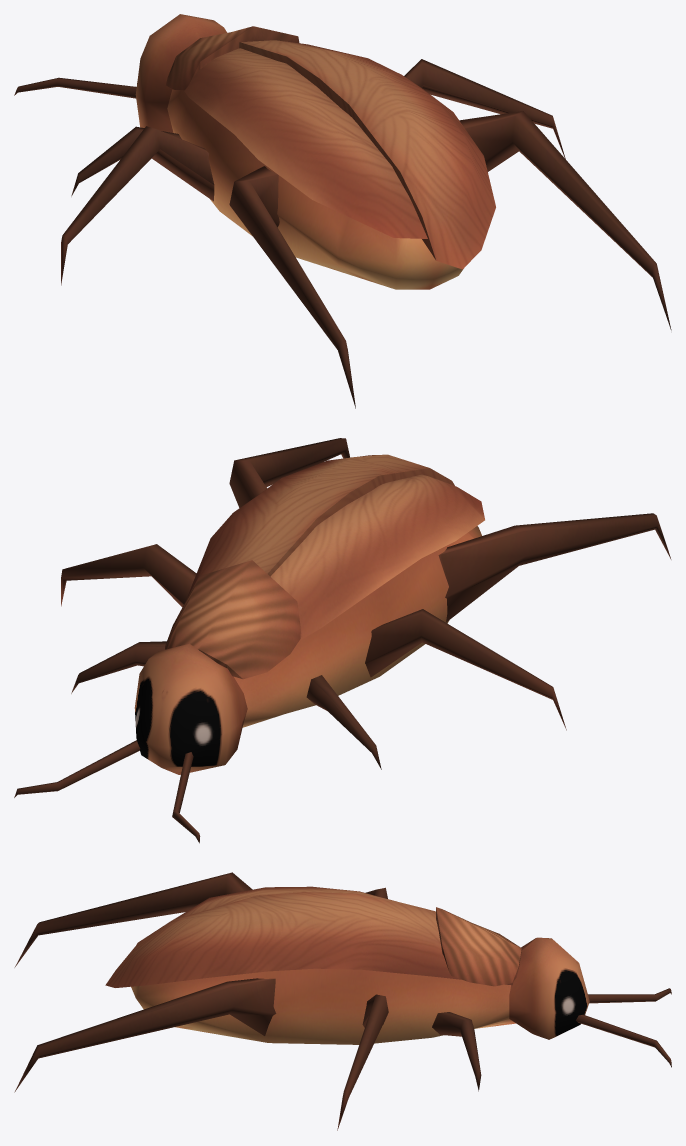
The model's file is Cockroach_uvs2.FBX.
The picture shows the model from 3 angles, top to bottom: view 1: azimuth 30°, elevation 25°; view 2: azimuth 150°, elevation 25°; view 3: azimuth 270°, elevation 25°; orthographic projection. The views are drawn at different scales.
Parts seen in each view (by area): view 1: Cockroach; view 2: Cockroach; view 3: Cockroach.
Boxes of the visible parts, <box> form: Cockroach: <box>14,14,671,408</box>; Cockroach: <box>14,438,671,843</box>; Cockroach: <box>14,872,671,1130</box>.
Bounding box in the file's own units: 70.33 × 23.1 × 97.99.
